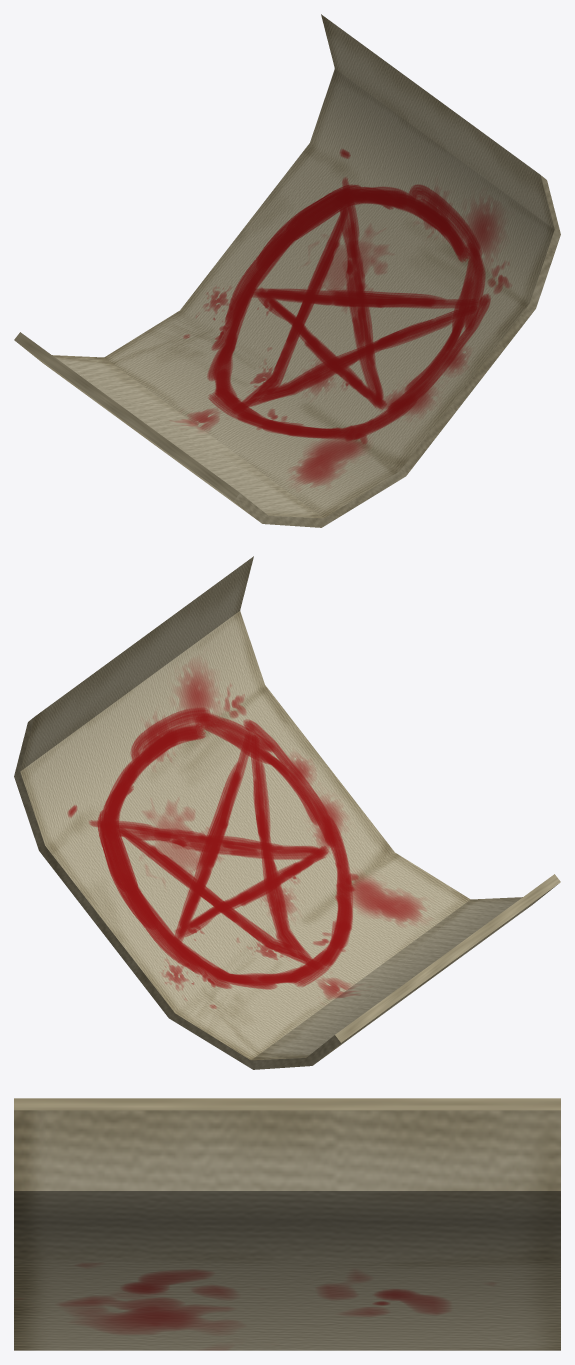
File: 4-5_Dot.fbx
3 views of the same model, one above another, from view 1: azimuth 30°, elevation 25°; view 2: azimuth 150°, elevation 25°; view 3: azimuth 270°, elevation 25° (orthographic). The views are drawn at different scales.
Parts seen in each view (by area): view 1: Dot_4_5; view 2: Dot_4_5; view 3: Dot_4_5.
Part boxes in pixels (left/top/right/bottom): Dot_4_5: left=14, top=14, right=560, bottom=527; Dot_4_5: left=14, top=556, right=560, bottom=1069; Dot_4_5: left=14, top=1098, right=560, bottom=1350.
Bounding box in the file's own units: 14.68 × 12.84 × 17.08.
Materials: 1 (1 with a texture image).
